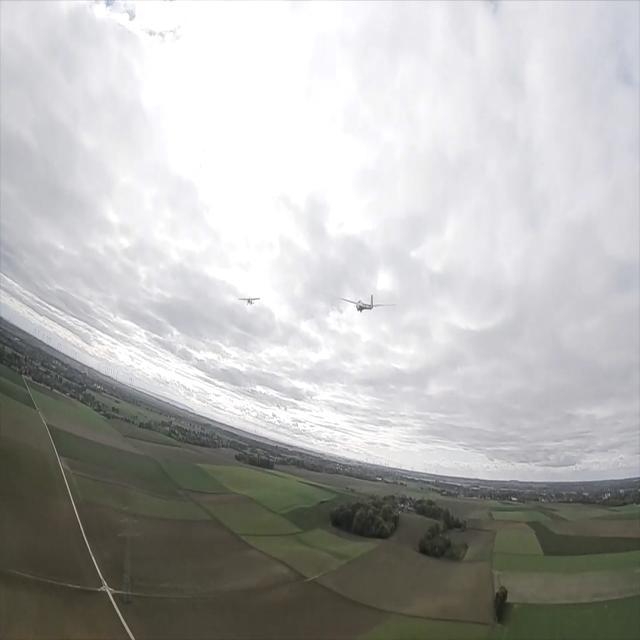iha: (340, 288, 396, 318), (239, 292, 263, 306)
